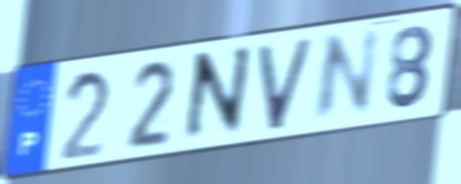2: (56, 67, 116, 164), (126, 58, 178, 151)
8: (384, 23, 434, 111)
N: (179, 41, 255, 149), (308, 24, 383, 129)
V: (255, 34, 317, 134)
